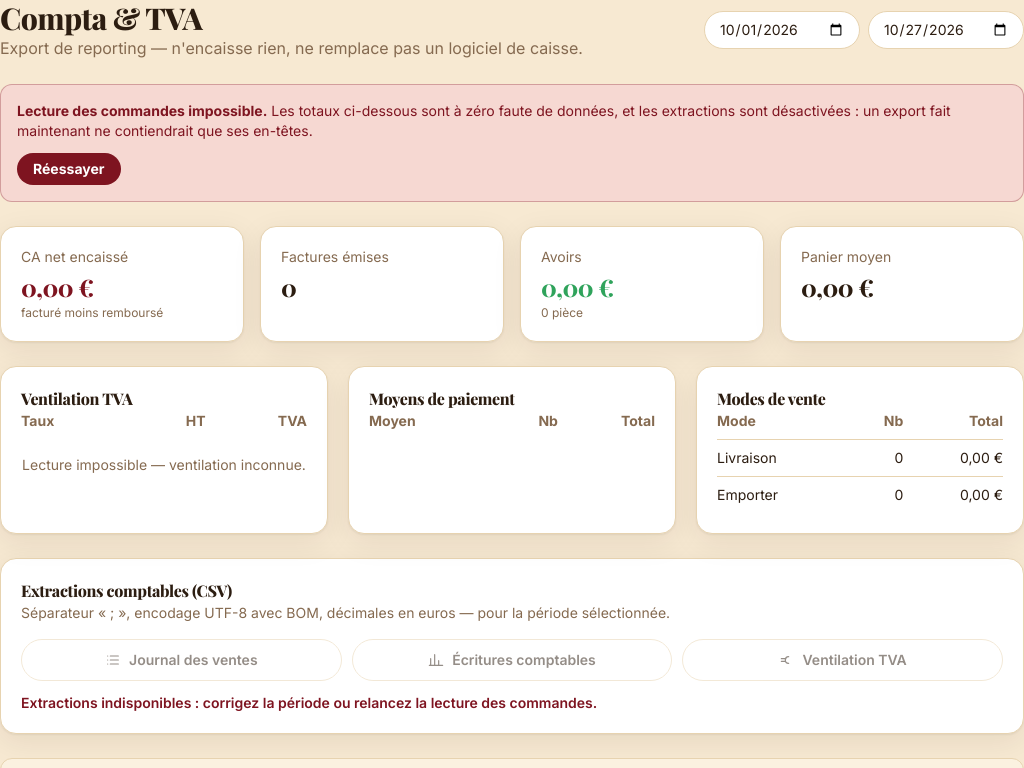
Scenario: Compta — quand la lecture échoue › propose « Réessayer », et la reprise réautorise les exports
Click the button "Réessayer" at [69, 169], box [17, 153, 120, 185]
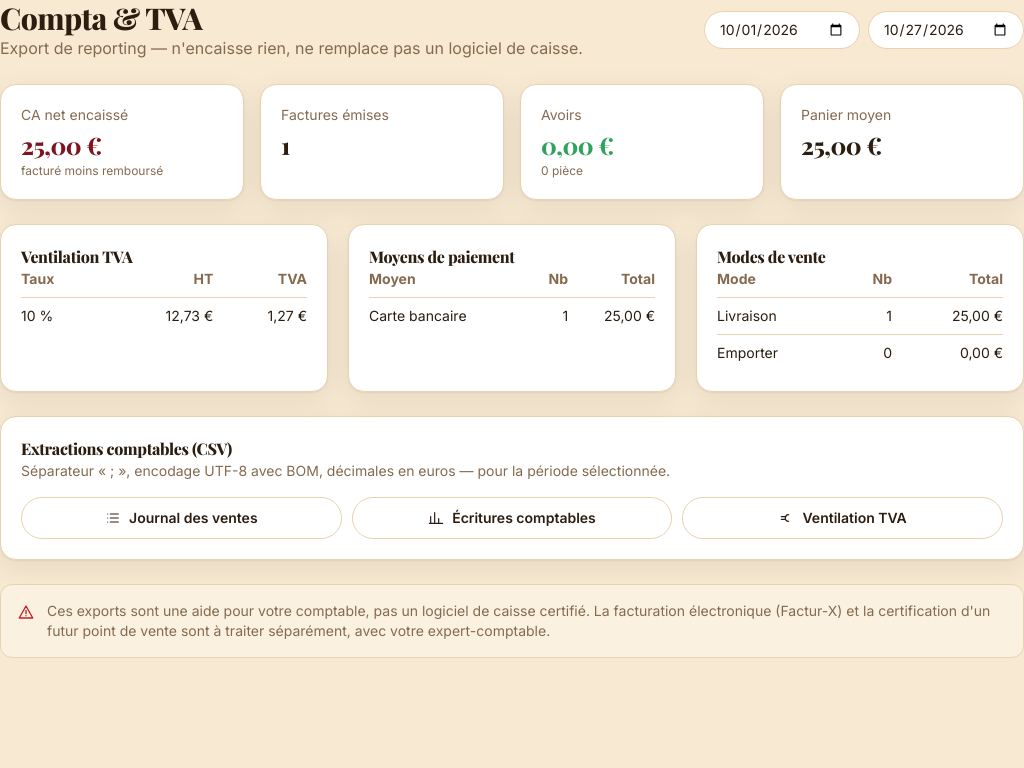
expect the button "Journal des ventes" is enabled: met, box [21, 497, 342, 539]
expect the text "Lecture impossible — ventilation inconnue." is gone: met
expect the text "25,00 €" below "CA net encaissé" is shown: met, box [21, 129, 102, 161]
